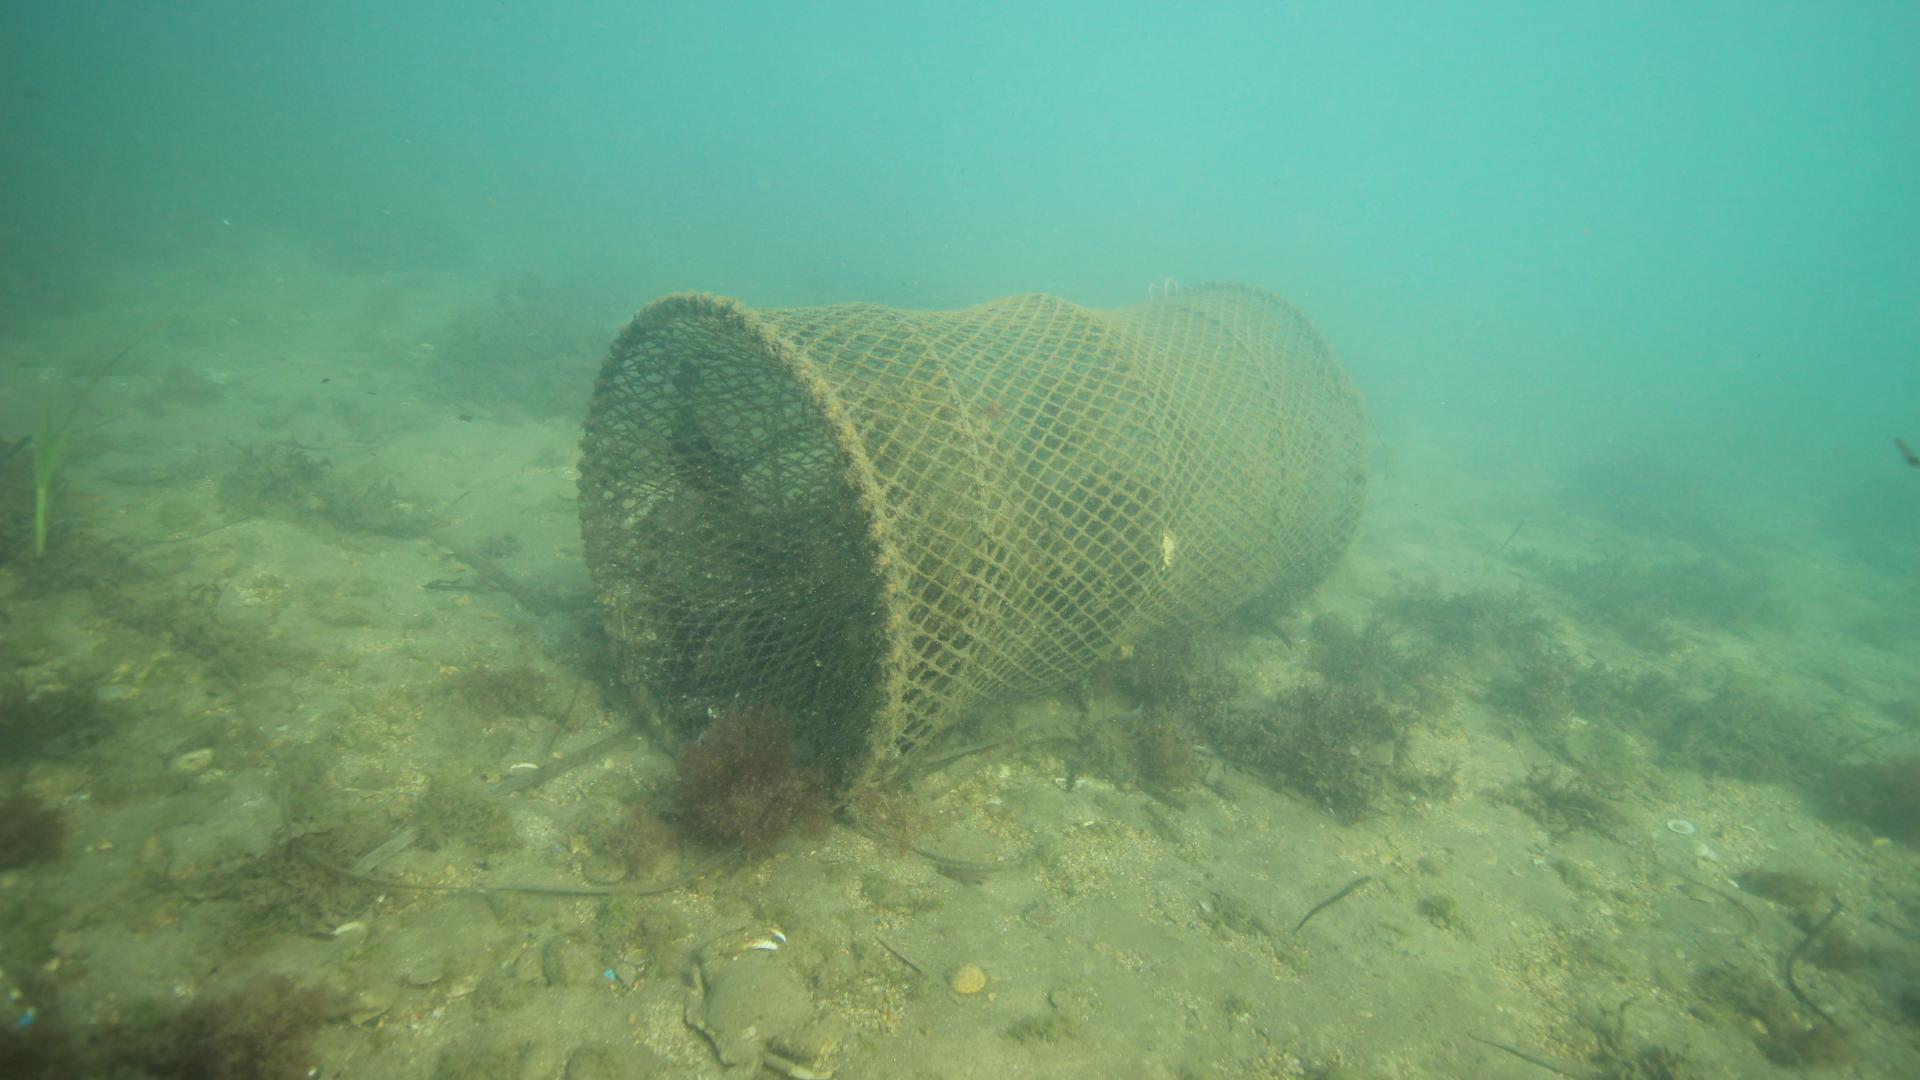spring fish trap: (568, 277, 1375, 828)
